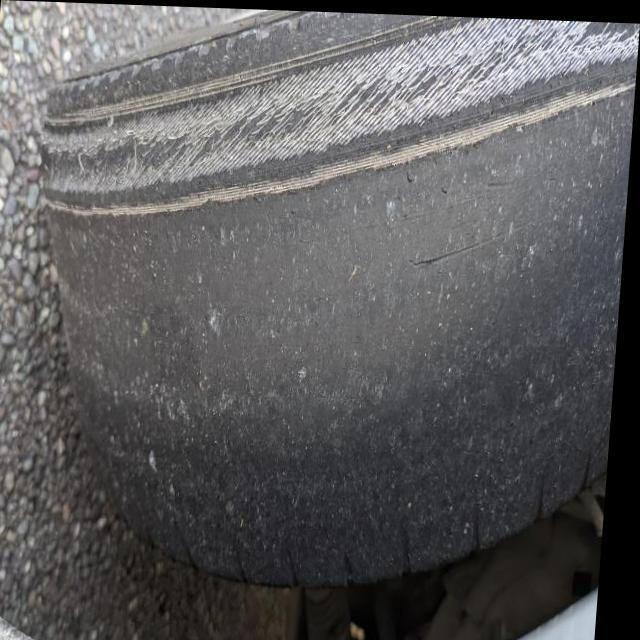Flat spots: (135, 212, 571, 499)
